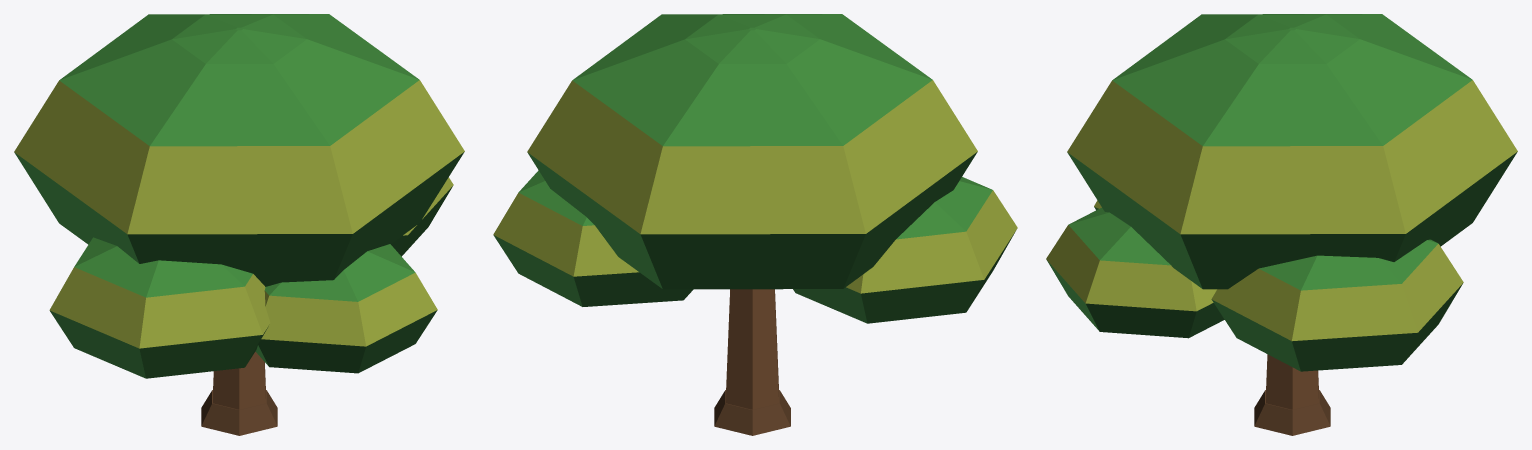
File: orange-harvested.glb
3 views of the same model, side by side, from view 1: azimuth 30°, elevation 25°; view 2: azimuth 150°, elevation 25°; view 3: azimuth 270°, elevation 25° (orthographic).
Visible parts, largest first — view 1: orange-harvested; view 2: orange-harvested; view 3: orange-harvested.
Boxes of the visible parts, x1=… form: orange-harvested: x1=14, y1=14, x2=464, y2=435; orange-harvested: x1=493, y1=14, x2=1017, y2=435; orange-harvested: x1=1046, y1=14, x2=1517, y2=435.
Size of the model in its own units: 0.6528 by 0.57 by 0.6279.
1 material, 1 textured.
